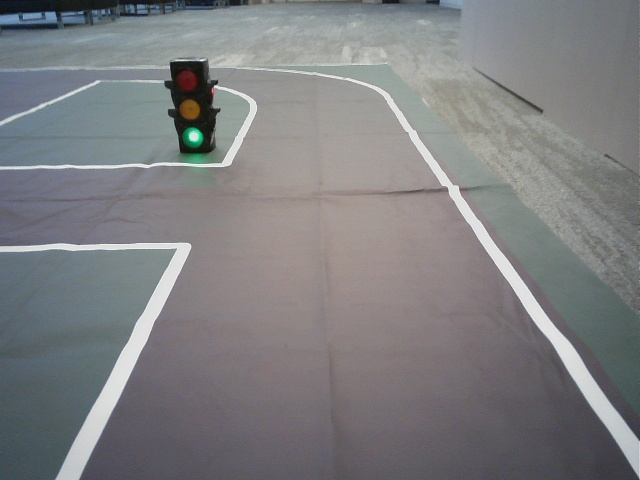green: (174, 63, 206, 148)
